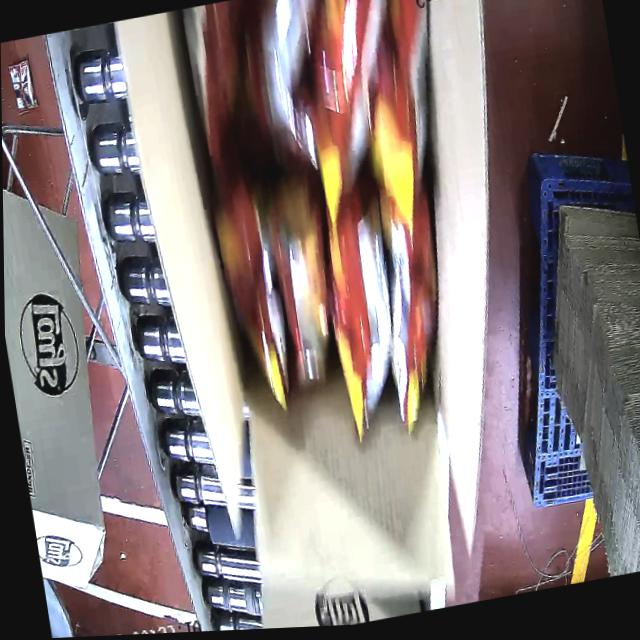MASALA: (177, 0, 503, 471)
